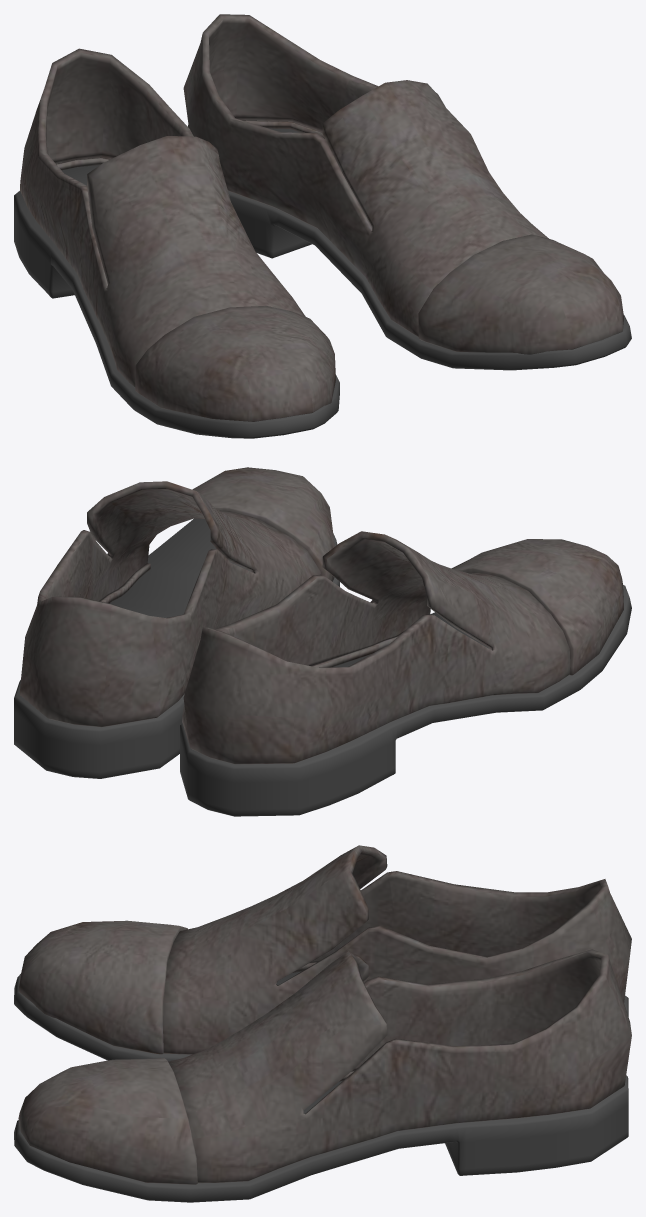
File: shoes_012.glb
3 views of the same model, one above another, from view 1: azimuth 30°, elevation 25°; view 2: azimuth 150°, elevation 25°; view 3: azimuth 270°, elevation 25° (orthographic).
Visible parts, largest first — view 1: BP_shoes_012; view 2: BP_shoes_012; view 3: BP_shoes_012.
Part boxes in pixels (box(x1,y1,x2,y2)): BP_shoes_012: box(14, 14, 631, 438); BP_shoes_012: box(14, 467, 631, 816); BP_shoes_012: box(14, 845, 631, 1202).
Bounding box in the file's own units: 0.2305 × 0.0923 × 0.274.
2 materials, 1 textured.
